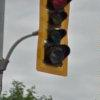Traffic light: (32, 1, 80, 76)
